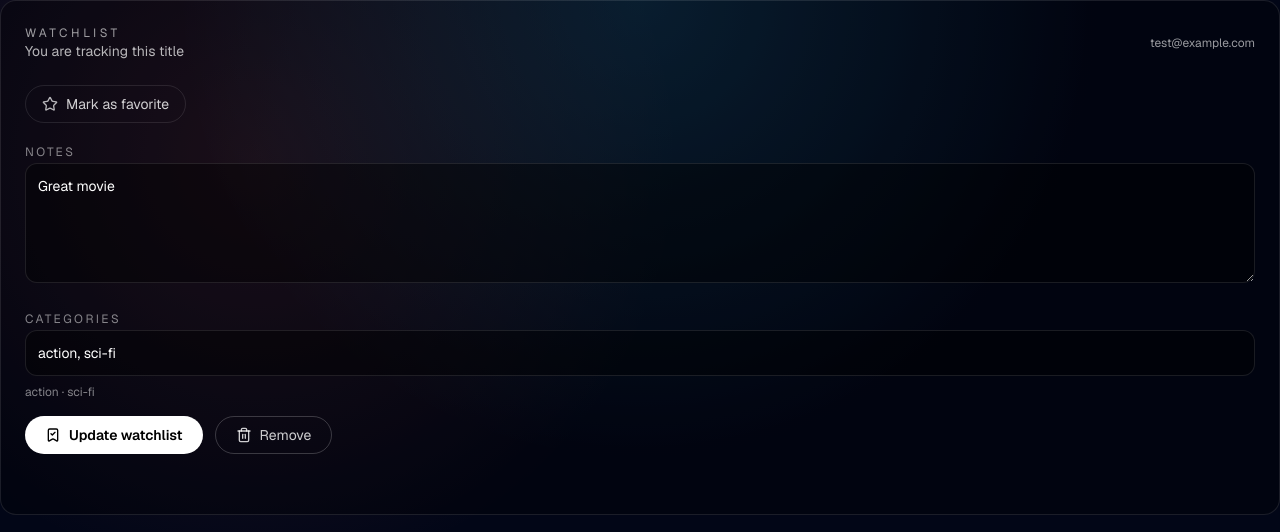
WatchlistPanel › favorite toggle › should show success feedback on favorite toggle
Click the button "Mark as favorite".
click(106, 104)  # box [25, 85, 186, 123]
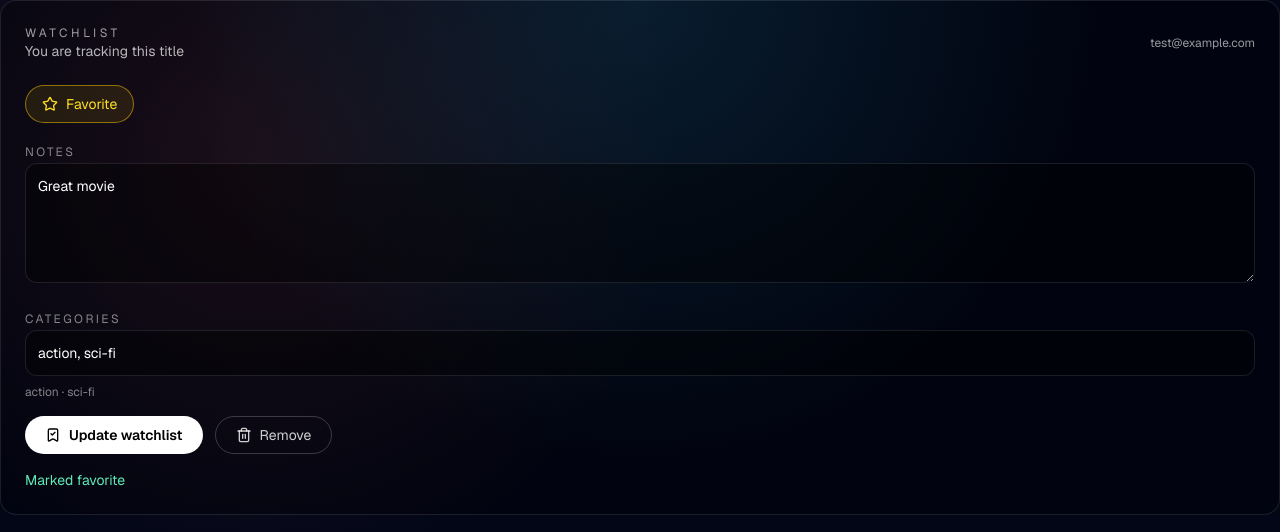
Now the text "Marked favorite" is shown, box [25, 471, 125, 489]
